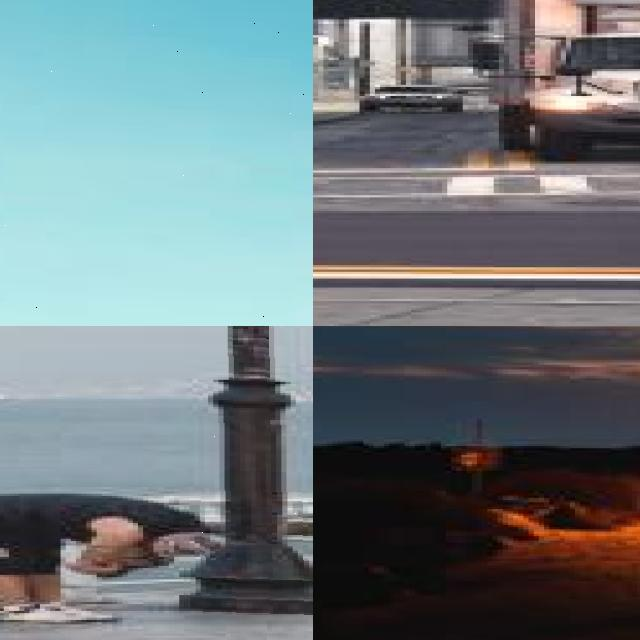street light: (0, 0, 313, 326), (179, 326, 313, 615)
